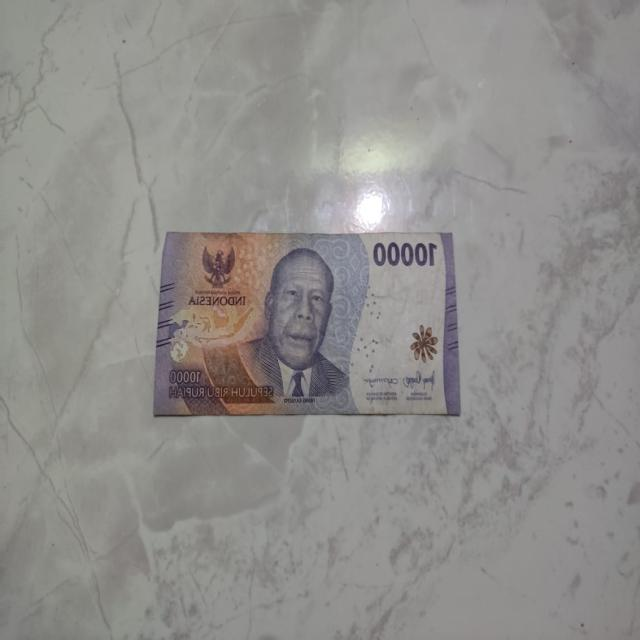sepuluh ribu rupiah: (154, 233, 460, 416)
